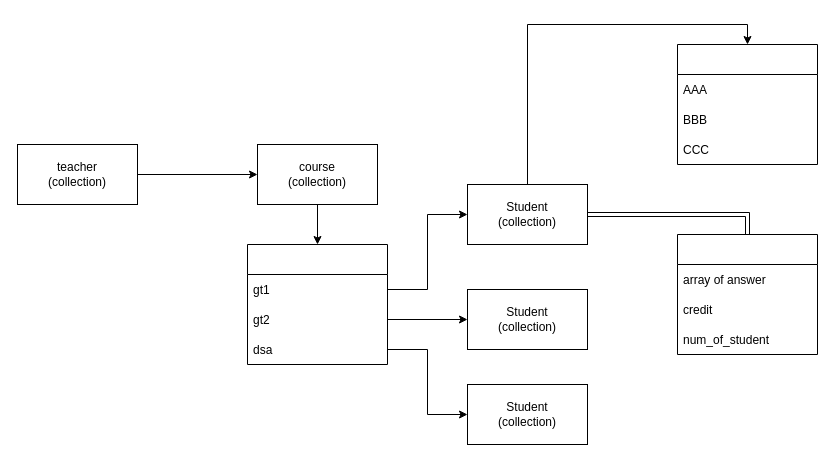
This 835x462 diagram has some shape labels left out. Here are the shapes that lost their labels. From the top down, the box of each, then its label:
(676, 44, 818, 164): List of students (id) (document)
(246, 244, 388, 364): List of course (document)
(676, 234, 818, 354): Field
